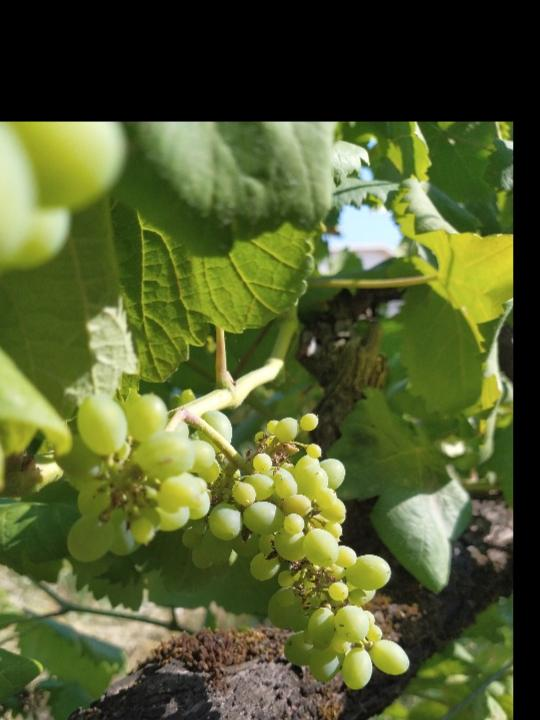grape: (181, 410, 414, 692), (54, 390, 222, 569)
